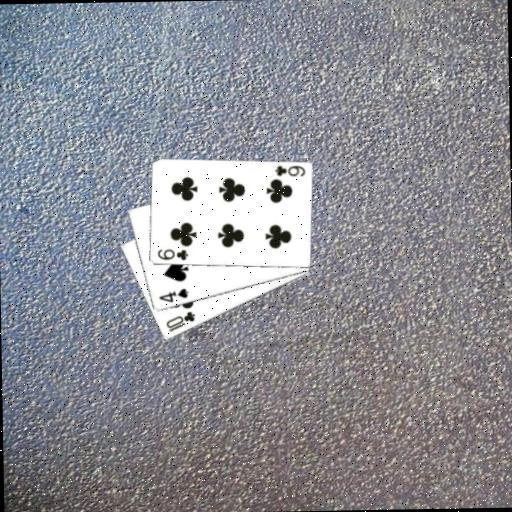10C: (163, 308, 197, 334)
4S: (156, 286, 190, 305)
6C: (154, 246, 189, 263), (272, 163, 306, 179)
